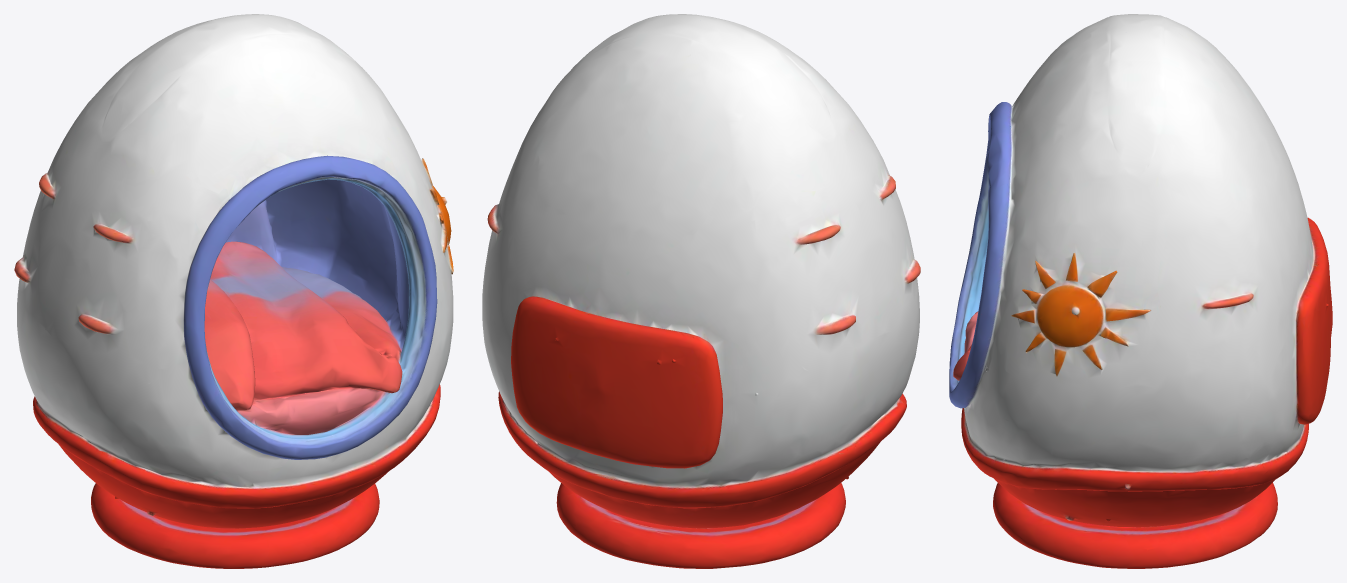
File: sleep_pod.glb
The picture shows the model from 3 angles, left to right: view 1: azimuth 30°, elevation 25°; view 2: azimuth 150°, elevation 25°; view 3: azimuth 270°, elevation 25°; orthographic projection.
Visible parts, largest first — view 1: tripo_node_56b2083a-16c0-4c3a-8fa8-6b9f9f8bfe33; view 2: tripo_node_56b2083a-16c0-4c3a-8fa8-6b9f9f8bfe33; view 3: tripo_node_56b2083a-16c0-4c3a-8fa8-6b9f9f8bfe33.
Boxes of the visible parts, x1=… form: tripo_node_56b2083a-16c0-4c3a-8fa8-6b9f9f8bfe33: x1=14, y1=14, x2=453, y2=568; tripo_node_56b2083a-16c0-4c3a-8fa8-6b9f9f8bfe33: x1=482, y1=14, x2=920, y2=568; tripo_node_56b2083a-16c0-4c3a-8fa8-6b9f9f8bfe33: x1=949, y1=14, x2=1332, y2=568.
Bounding box in the file's own units: 0.8135 × 1 × 0.7225.
Materials: 1 (1 with a texture image).
